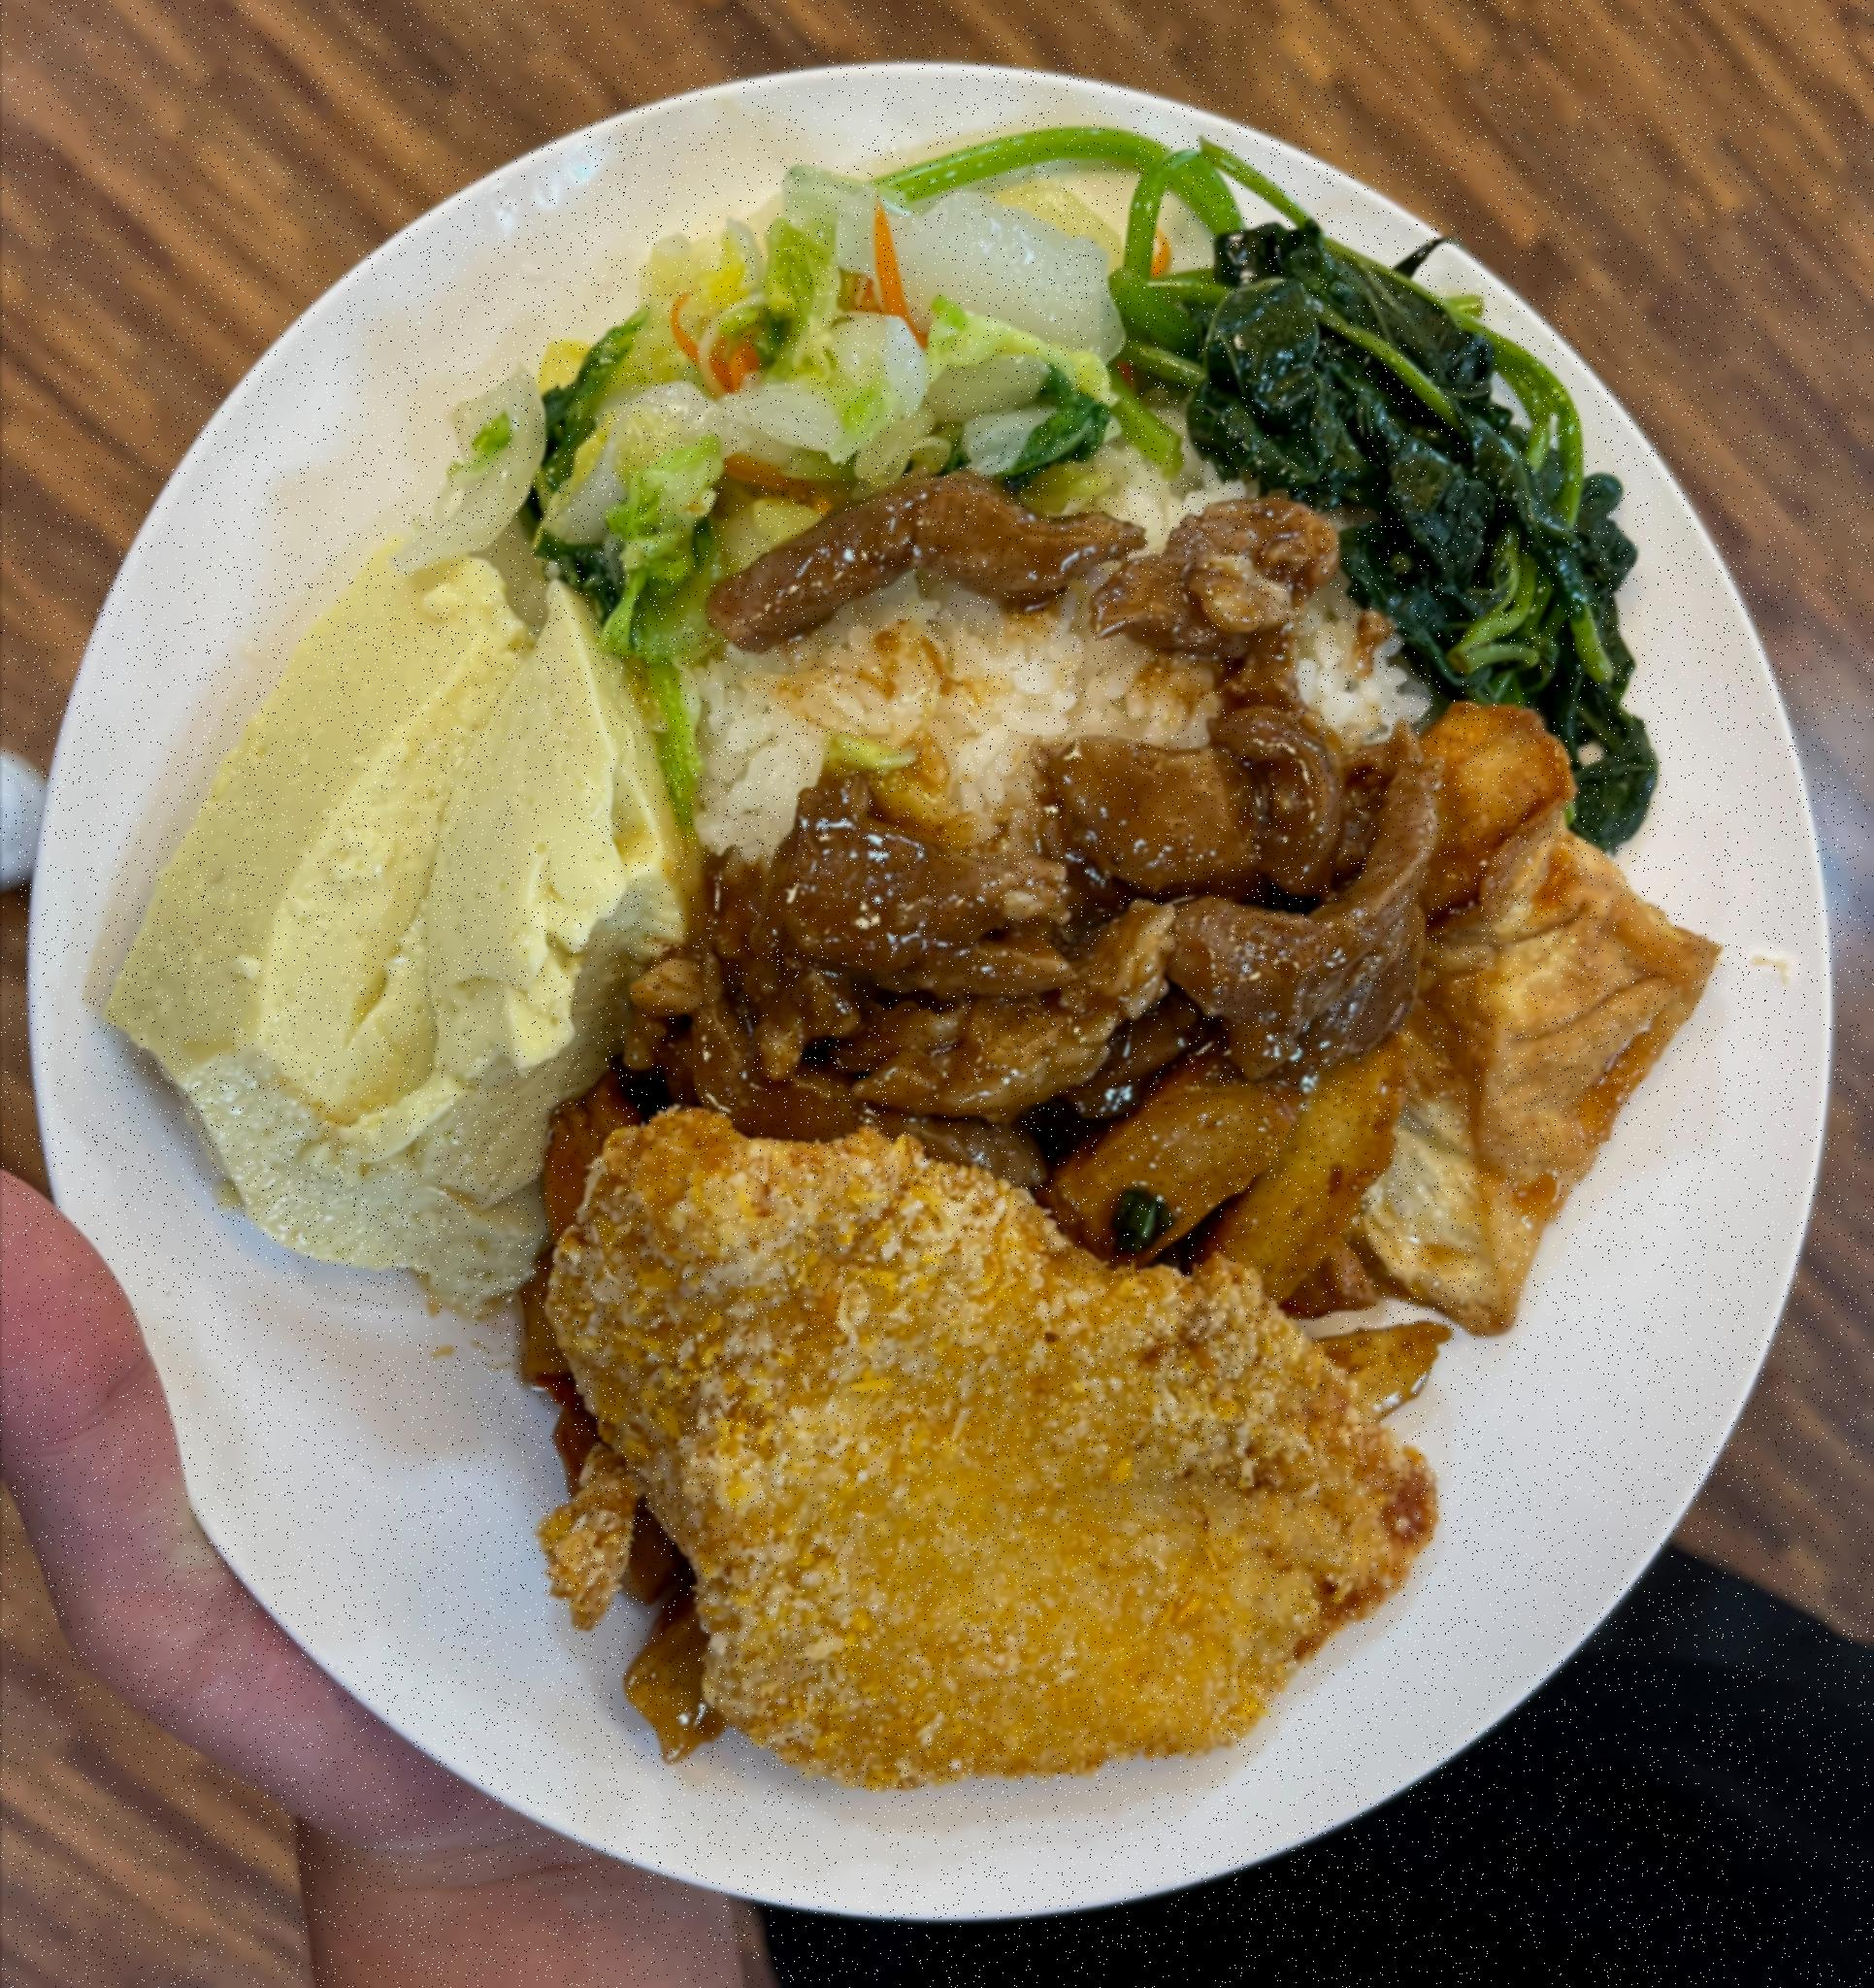chicken steak: (560, 1105, 1462, 1821)
plate: (58, 39, 1872, 1949)
shacha pork: (579, 504, 1439, 1153)
side dish: (102, 529, 675, 1325), (1111, 157, 1714, 834), (1231, 652, 1714, 1361), (484, 125, 1168, 622)
white rice: (638, 465, 1441, 939)
